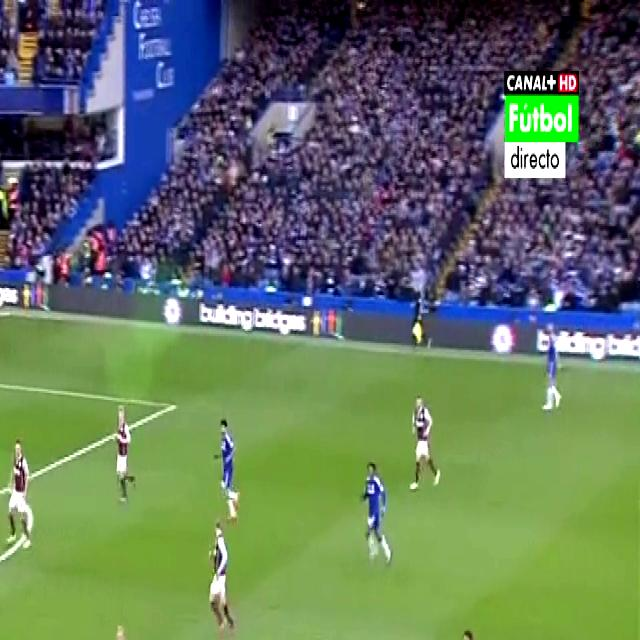referee: (408, 278, 433, 356)
soccer-player: (350, 454, 398, 571), (199, 519, 241, 640), (404, 383, 446, 494), (209, 405, 247, 519), (107, 395, 143, 510), (2, 433, 37, 551), (533, 316, 570, 415), (102, 611, 153, 640), (448, 615, 492, 640)
